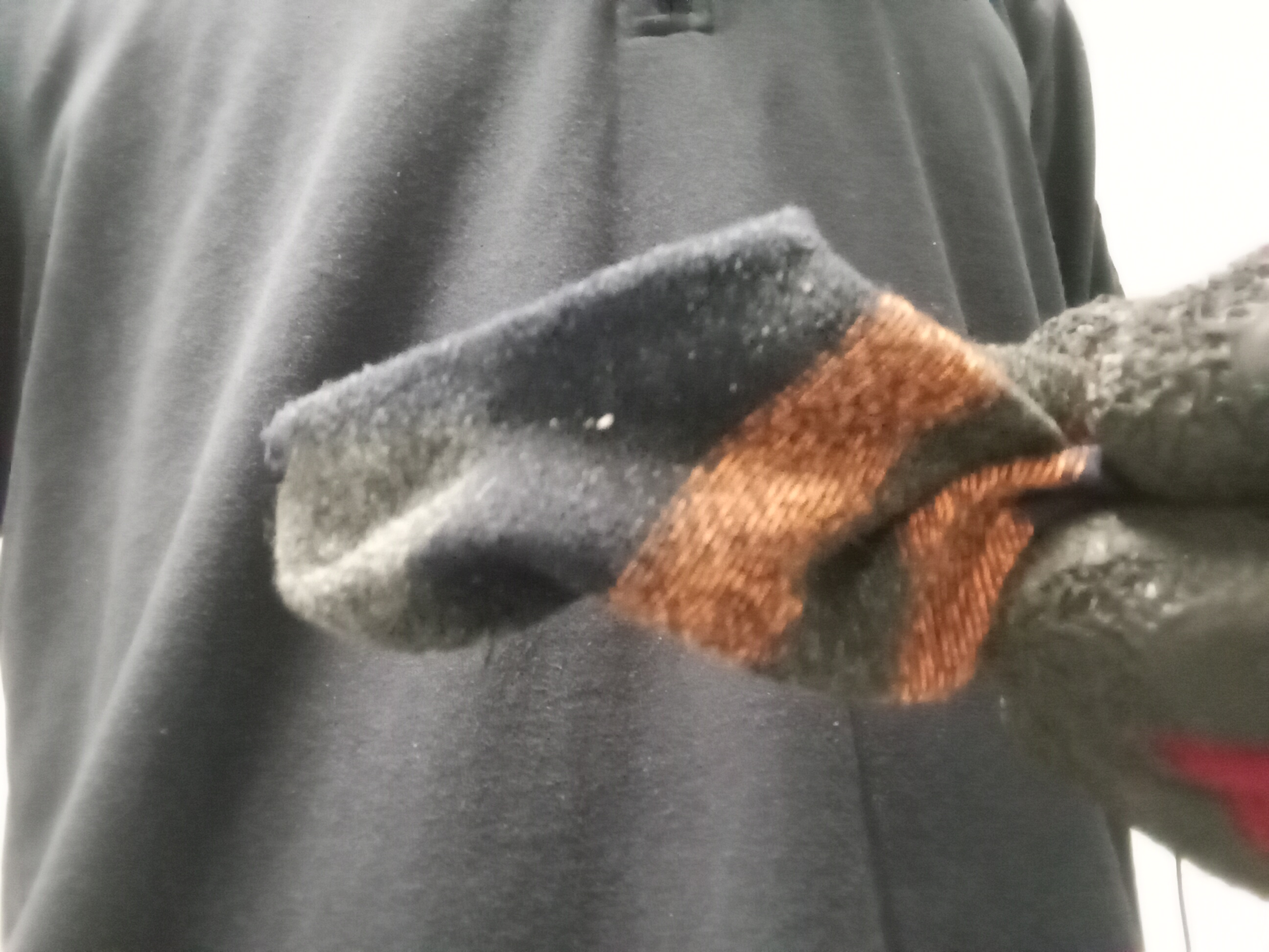Ordinario: (264, 203, 1102, 704)
